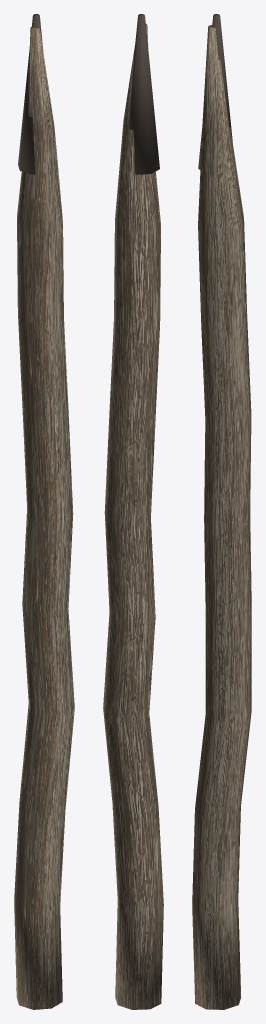
File: SM_Item_digging_stick.gltf
The picture shows the model from 3 angles, left to right: view 1: azimuth 30°, elevation 25°; view 2: azimuth 210°, elevation 25°; view 3: azimuth 330°, elevation 25°; orthographic projection.
Visible parts, largest first — view 1: SM_Item_digging_stick; view 2: SM_Item_digging_stick; view 3: SM_Item_digging_stick.
Boxes of the visible parts, x1=… form: SM_Item_digging_stick: x1=14, y1=14, x2=74, y2=1009; SM_Item_digging_stick: x1=103, y1=14, x2=163, y2=1009; SM_Item_digging_stick: x1=192, y1=14, x2=251, y2=1009.
Bounding box in the file's own units: 0.0536 × 0.9106 × 0.0466.
Materials: 2 (1 with a texture image).
